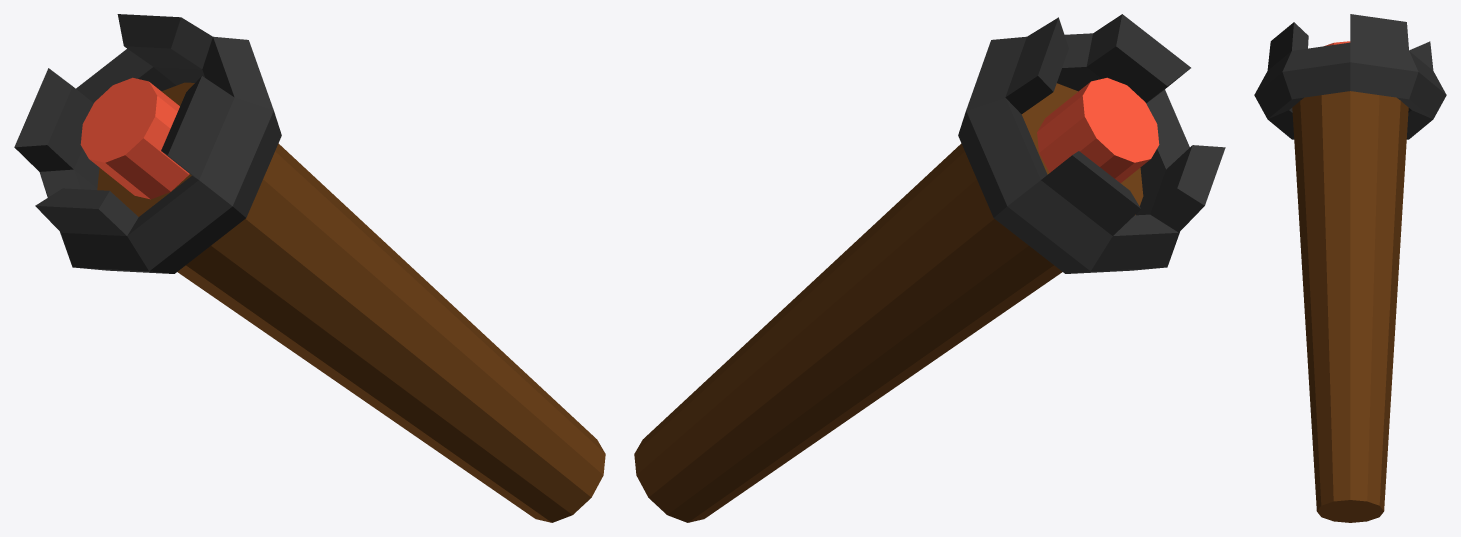
Rendered from Torch.obj.
The picture shows the model from 3 angles, left to right: view 1: azimuth 30°, elevation 25°; view 2: azimuth 150°, elevation 25°; view 3: azimuth 270°, elevation 25°; orthographic projection. The views are drawn at different scales.
Parts seen in each view (by area): view 1: Cylinder, Torus, Cylinder.001; view 2: Cylinder, Torus, Cylinder.001; view 3: Cylinder, Torus.
Part boxes in pixels (x1=…): Cylinder: x1=97, y1=82, x2=605, y2=522; Torus: x1=14, y1=14, x2=281, y2=273; Cylinder.001: x1=80, y1=77, x2=189, y2=199; Cylinder: x1=634, y1=83, x2=1143, y2=522; Torus: x1=958, y1=14, x2=1225, y2=273; Cylinder.001: x1=1037, y1=77, x2=1159, y2=183; Cylinder: x1=1292, y1=91, x2=1408, y2=522; Torus: x1=1254, y1=14, x2=1446, y2=139.
Size of the model in its own units: 5.3 by 5.3 by 2.35.
